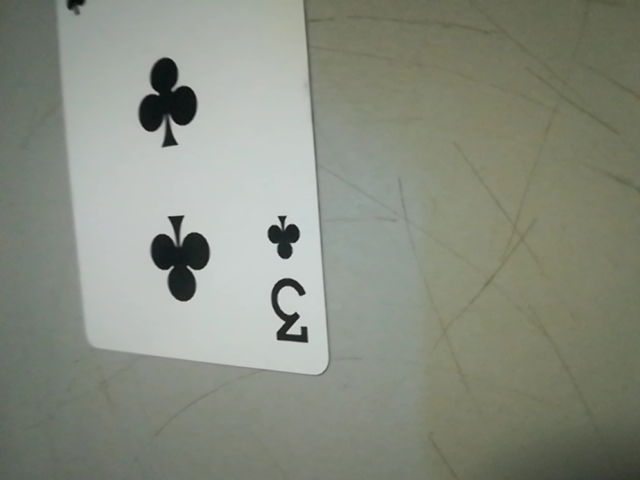mh 3: (257, 200, 323, 363)
